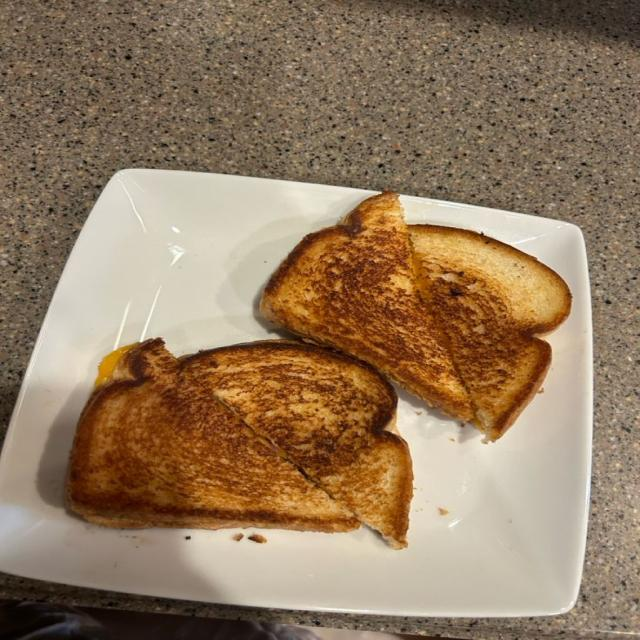toast bread: (67, 339, 359, 531), (261, 192, 474, 420), (183, 340, 413, 548), (408, 225, 571, 441)
